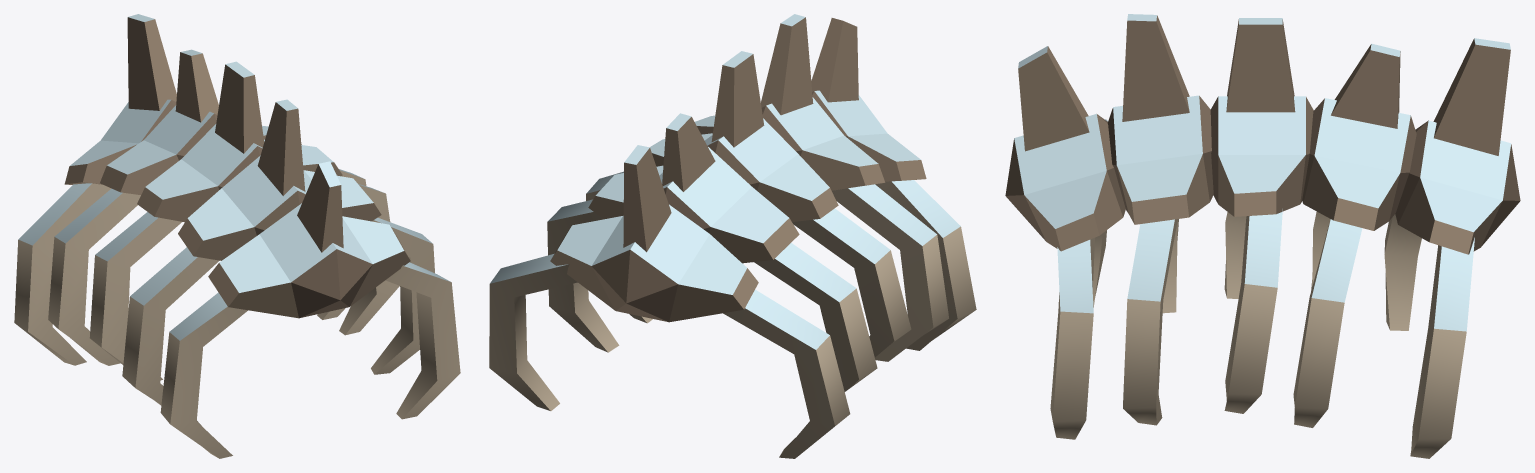
File: SM_Env_Dungeon_Bones_01_Snow.fbx
3 renders of one model, left to right at view 1: azimuth 30°, elevation 25°; view 2: azimuth 150°, elevation 25°; view 3: azimuth 270°, elevation 25°, orthographic. The views are drawn at different scales.
Parts seen in each view (by area): view 1: SM_Env_Dungeon_Bones_01_Snow; view 2: SM_Env_Dungeon_Bones_01_Snow; view 3: SM_Env_Dungeon_Bones_01_Snow.
Boxes of the visible parts, box(x1,y1,x2,y2) form: SM_Env_Dungeon_Bones_01_Snow: box(14, 14, 460, 458); SM_Env_Dungeon_Bones_01_Snow: box(489, 14, 976, 458); SM_Env_Dungeon_Bones_01_Snow: box(1005, 14, 1520, 458).
Size of the model in its own units: 97.93 by 90.88 by 115.
1 material, 1 textured.
